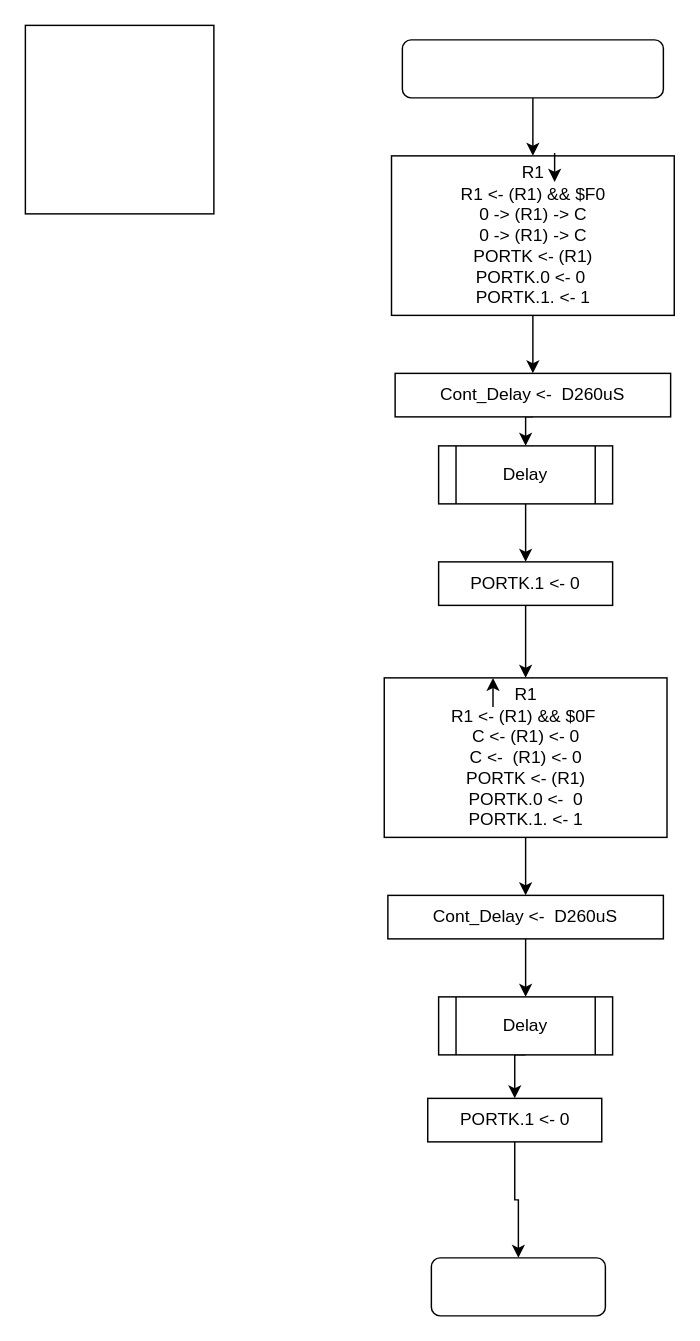
Image size: 700x1341. Some labels were removed from this diagram. The shapes that lost their labels are listed below. From the top down, each one's centre as x and y in pixels, then its label:
pixel 532 68: SEND_DATA
pixel 119 119: C - carry K. - Y J - X R1 - A R2 - B RR1 - D
pixel 517 1286: RETURN
